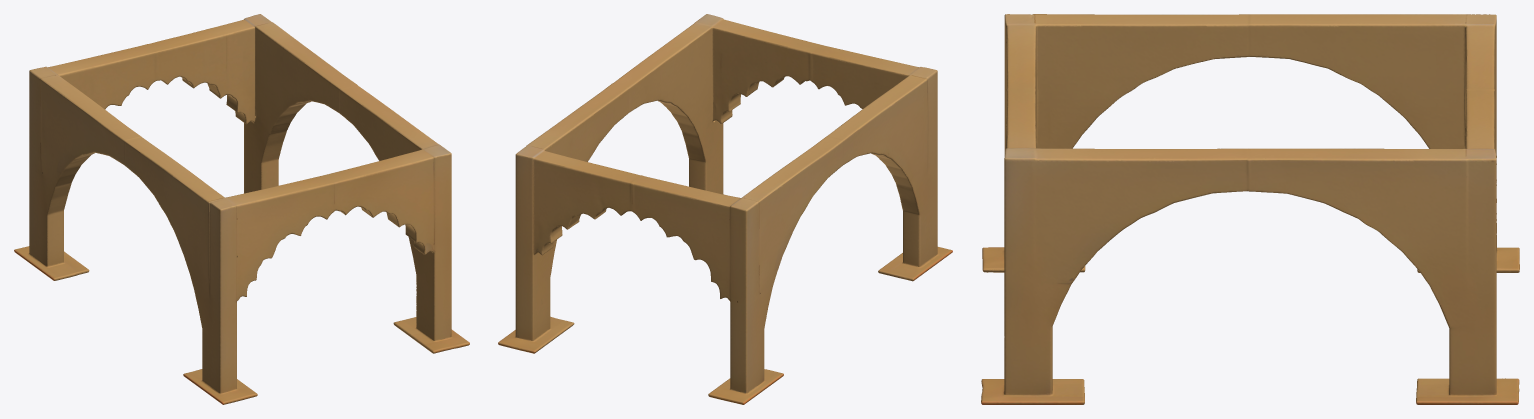
3 renders of one model, left to right at view 1: azimuth 30°, elevation 25°; view 2: azimuth 150°, elevation 25°; view 3: azimuth 270°, elevation 25°, orthographic. The views are drawn at different scales.
Visible parts, largest first — view 1: tripo_node_65d9003a-081f-44ba-add8-bc364e4671dd; view 2: tripo_node_65d9003a-081f-44ba-add8-bc364e4671dd; view 3: tripo_node_65d9003a-081f-44ba-add8-bc364e4671dd.
Boxes of the visible parts, <box> form: tripo_node_65d9003a-081f-44ba-add8-bc364e4671dd: <box>14,14,469,404</box>; tripo_node_65d9003a-081f-44ba-add8-bc364e4671dd: <box>498,14,952,404</box>; tripo_node_65d9003a-081f-44ba-add8-bc364e4671dd: <box>981,14,1519,404</box>.
Size of the model in its own units: 0.6812 by 0.4945 by 1.
Materials: 1 (1 with a texture image).
